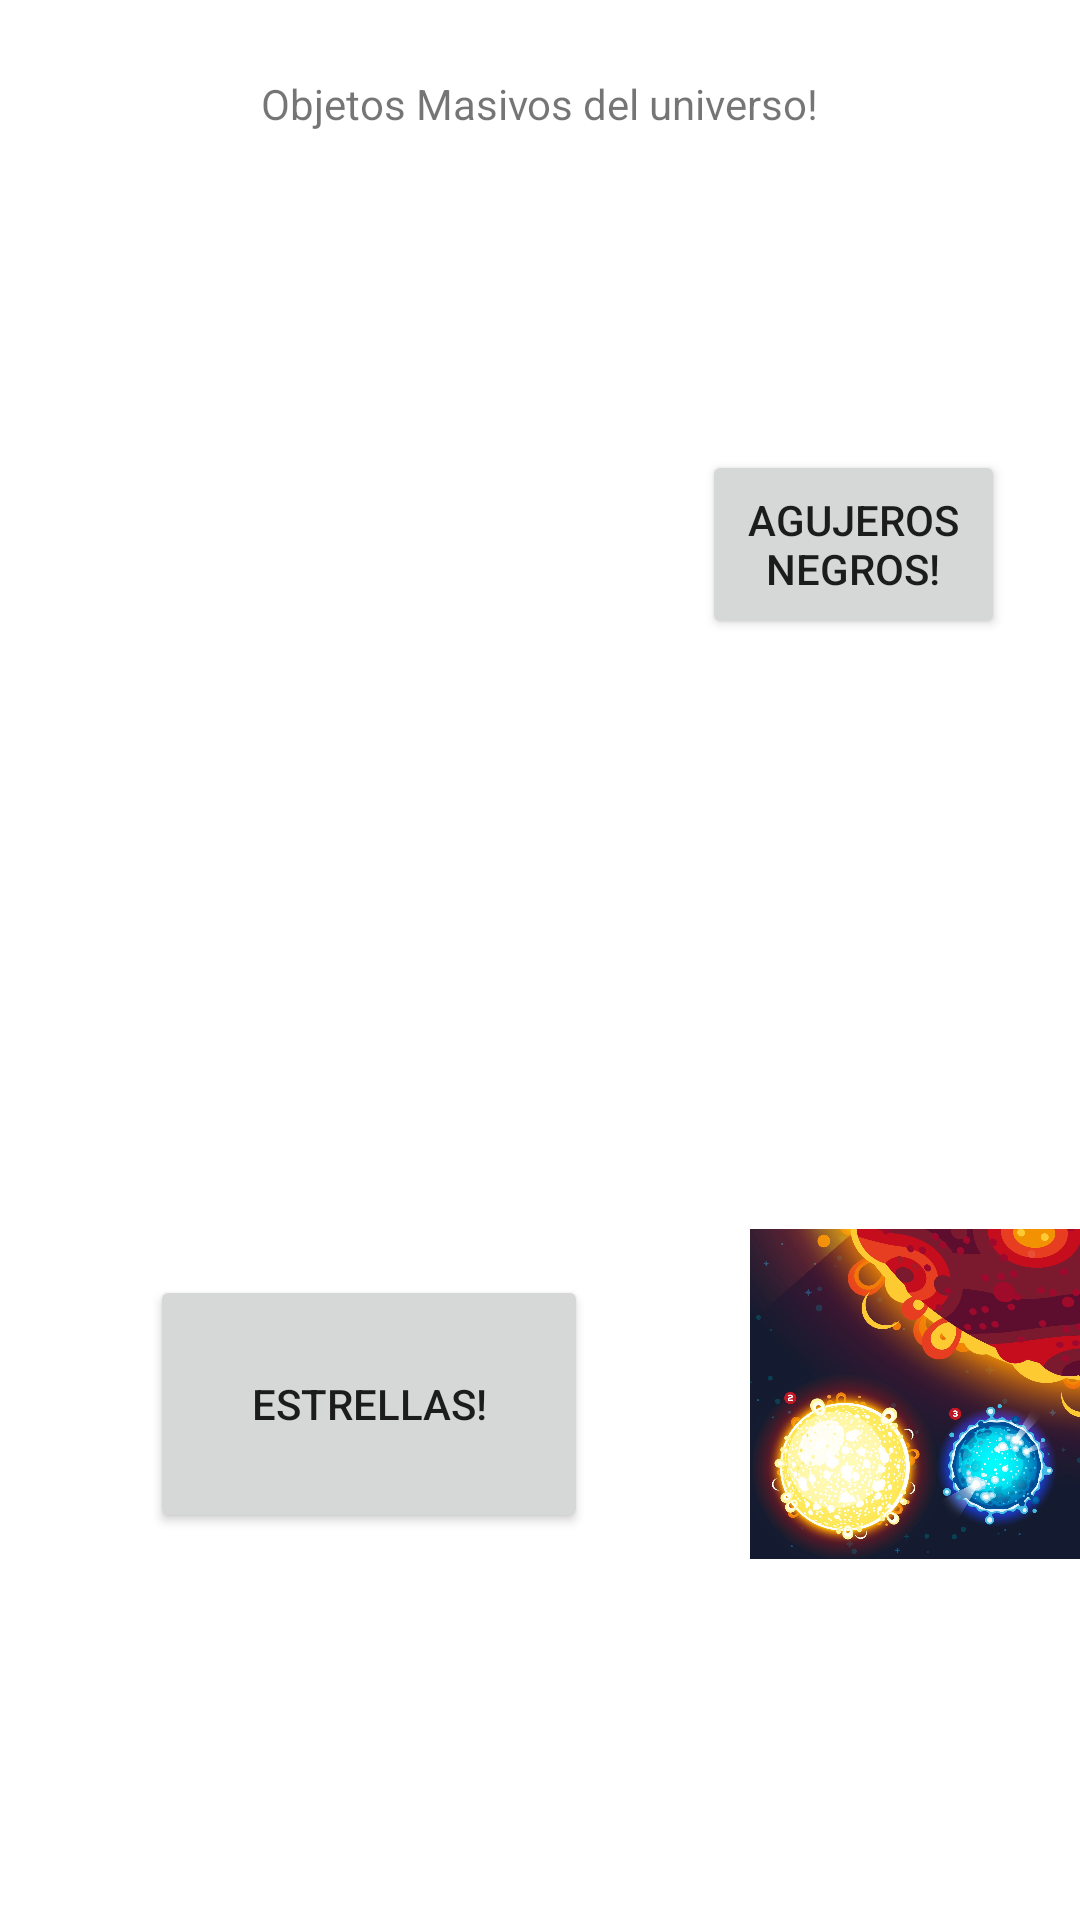

Icon click points for this 1080w x 1920h phone screenshot, format (x,y):
estrellasdetalle: (915,1394)
